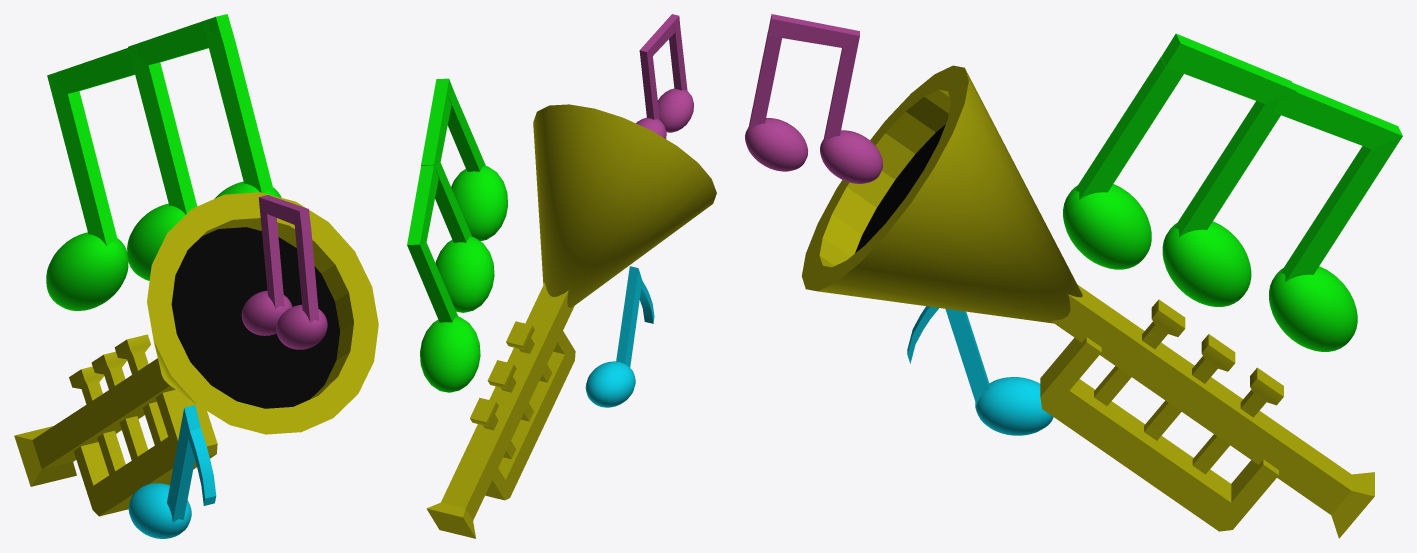
File: CollectObjectTrumpet.fbx
3 views of the same model, side by side, from view 1: azimuth 30°, elevation 25°; view 2: azimuth 150°, elevation 25°; view 3: azimuth 270°, elevation 25° (orthographic). The views are drawn at different scales.
Visible parts, largest first — view 1: pCube59; view 2: pCube59; view 3: pCube59.
Part boxes in pixels (bbox=[...]): pCube59: bbox=[14, 14, 378, 538]; pCube59: bbox=[407, 14, 716, 538]; pCube59: bbox=[745, 14, 1402, 538].
Bounding box in the file's own units: 0.8469 × 1.78 × 1.97.
